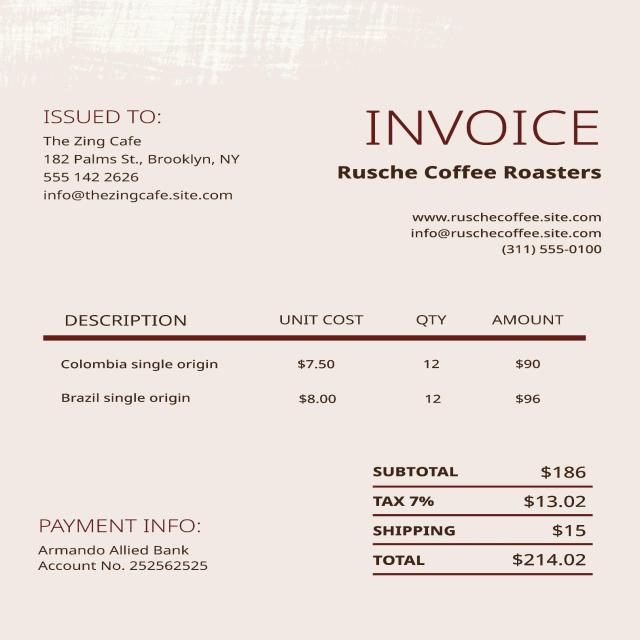paragraph: (345, 461, 611, 595), (34, 95, 252, 214), (21, 495, 242, 582), (390, 200, 612, 266), (350, 97, 616, 151), (327, 155, 622, 187)
table: (18, 291, 601, 415)
